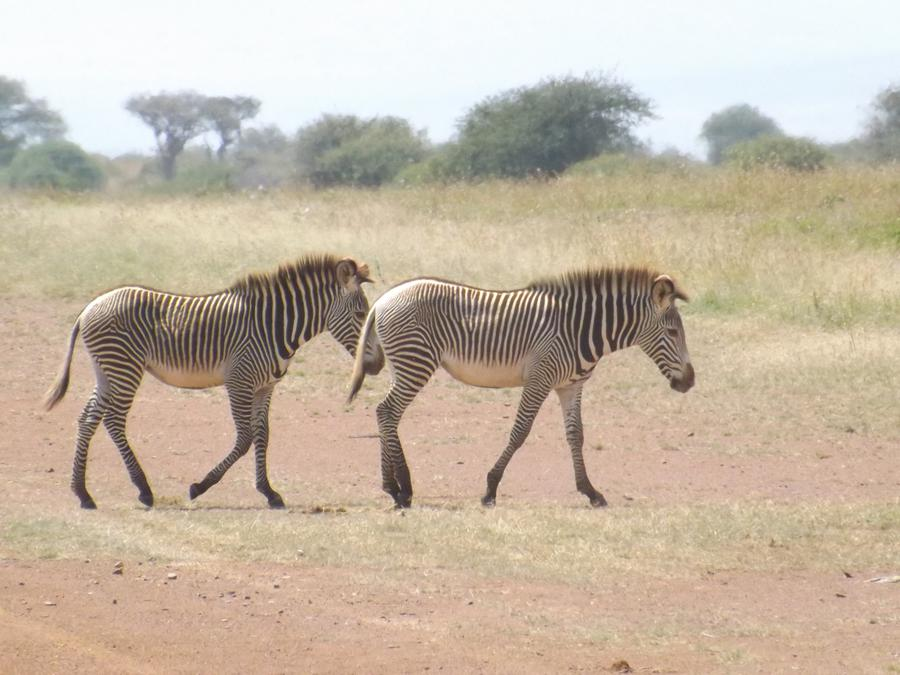zebra_grevys: (374, 258, 580, 382), (66, 277, 275, 395)
